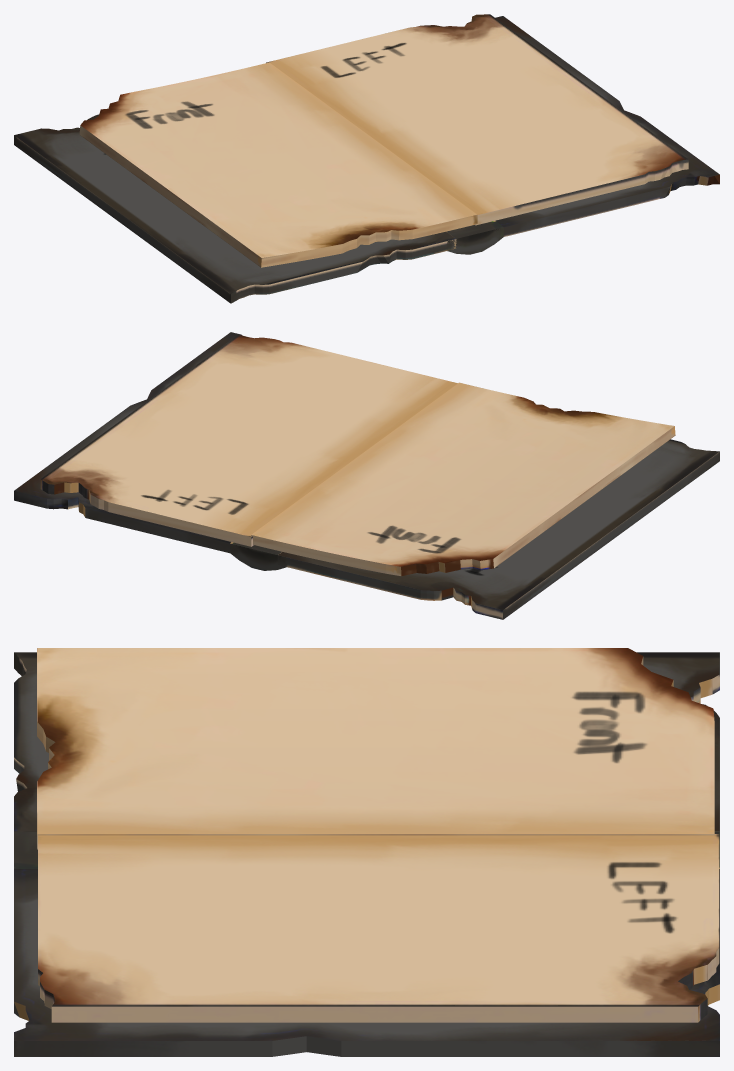
Rendered from BookAnimOpen.dae.
3 views of the same model, one above another, from view 1: azimuth 30°, elevation 25°; view 2: azimuth 150°, elevation 25°; view 3: azimuth 270°, elevation 25° (orthographic). The views are drawn at different scales.
Visible parts, largest first — view 1: Cube, PageR-002, CoverL, CoverR, Spine; view 2: Cube, PageR-002, CoverL, CoverR, Spine; view 3: Cube, PageR-002, CoverR, CoverL, Spine.
Part boxes in pixels (x1,y1,x2,y2): Cube: (266, 14, 688, 225); PageR-002: (79, 62, 477, 267); CoverL: (14, 114, 456, 303); CoverR: (495, 16, 719, 236); Spine: (446, 221, 503, 254); Cube: (40, 334, 457, 546); PageR-002: (251, 382, 675, 576); CoverL: (277, 439, 719, 619); CoverR: (14, 332, 241, 553); Spine: (230, 542, 286, 570); Cube: (38, 834, 719, 1022); PageR-002: (37, 648, 714, 849); CoverR: (14, 869, 719, 1056); CoverL: (14, 652, 719, 831); Spine: (14, 831, 719, 869).
Bounding box in the file's own units: 5.21 × 0.4112 × 4.
5 materials, 5 textured.
